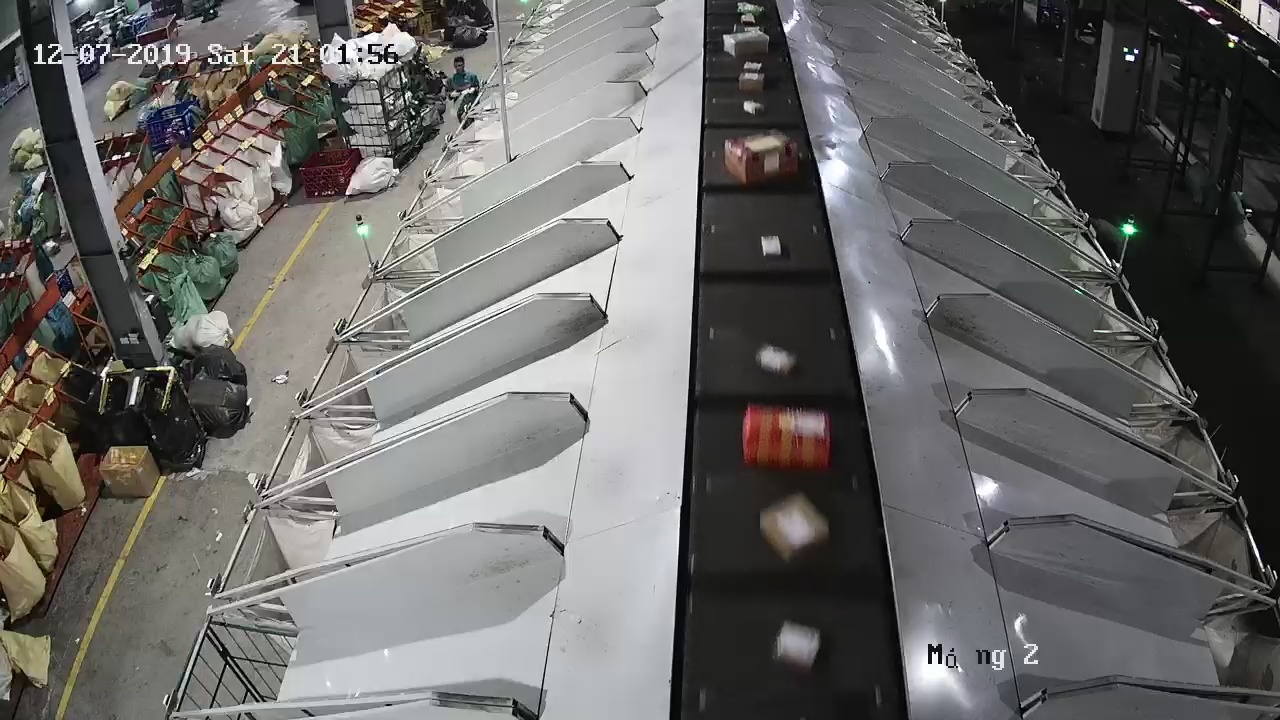parcel: (814, 132, 841, 150)
